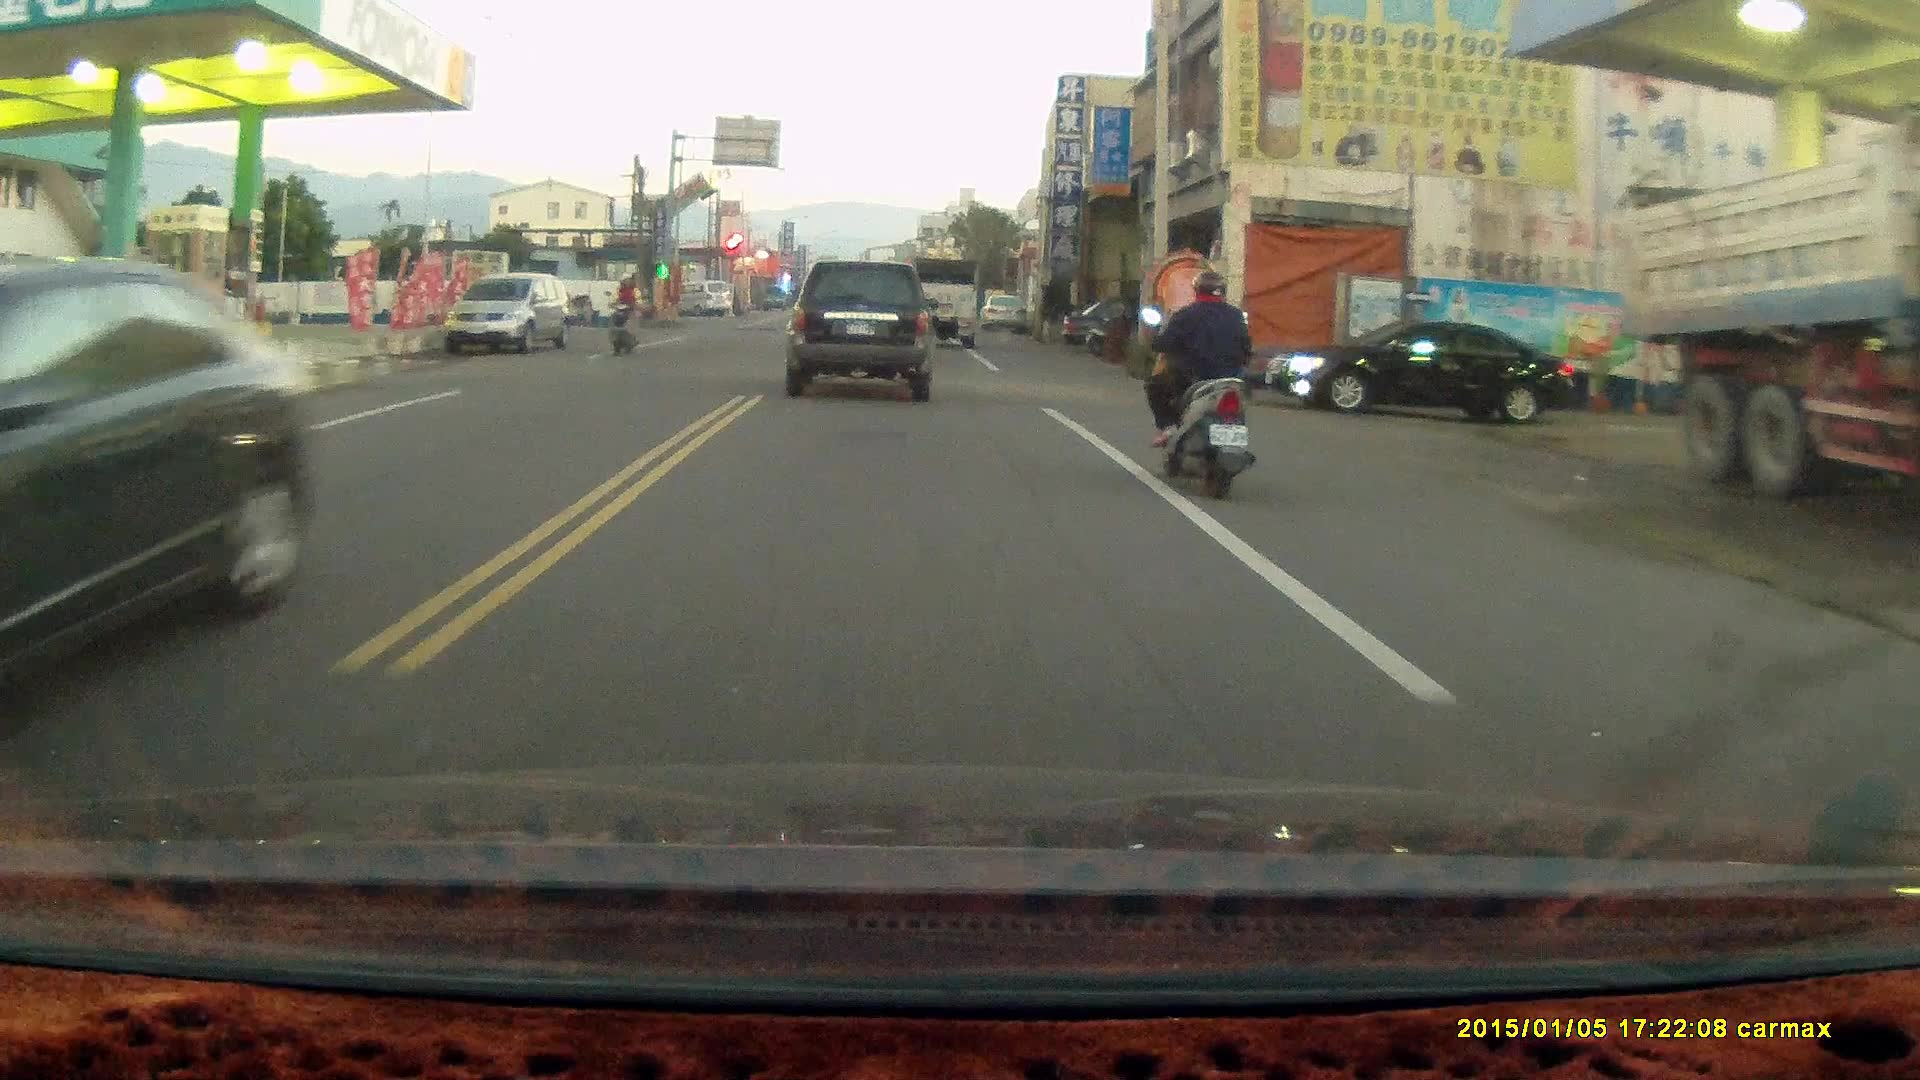rider: (1137, 271, 1253, 501), (600, 269, 640, 358)
vehicle: (1, 253, 321, 747), (1624, 127, 1920, 497), (1264, 322, 1591, 423), (790, 260, 937, 402), (445, 272, 569, 362), (906, 257, 980, 350)
